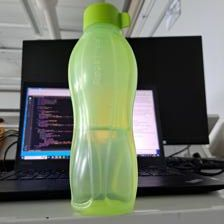bottle: (65, 2, 141, 220)
